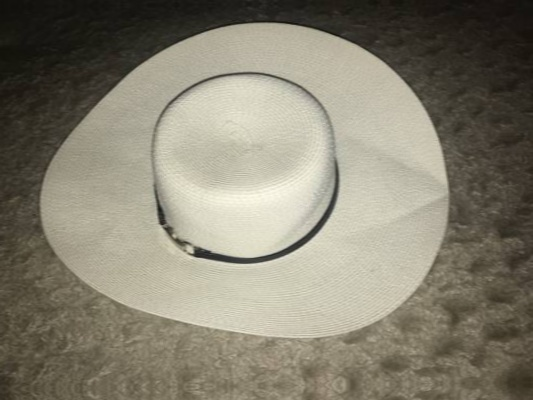Hat: (18, 2, 463, 361), (14, 0, 458, 6)
